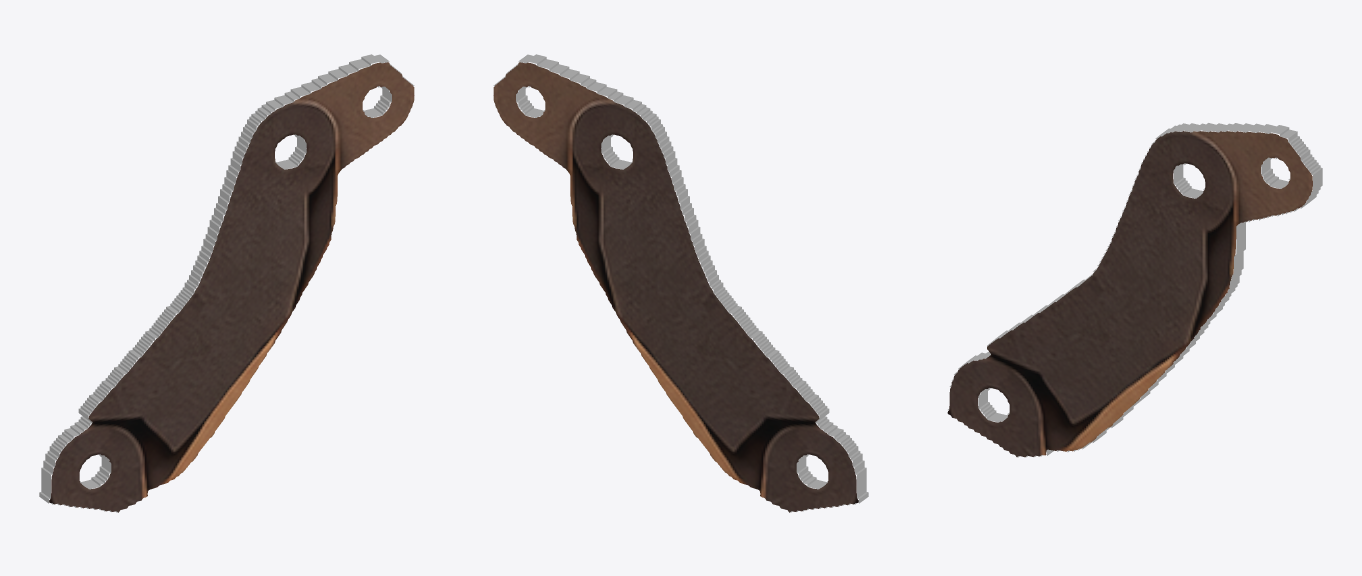
Rendered from Variant01Upper.glb.
3 views of the same model, side by side, from view 1: azimuth 30°, elevation 25°; view 2: azimuth 150°, elevation 25°; view 3: azimuth 330°, elevation 25° (orthographic).
Parts seen in each view (by area): view 1: PaperVolume; view 2: PaperVolume; view 3: PaperVolume.
Part boxes in pixels (x1,y1,x2,y2): PaperVolume: (39,54,414,512); PaperVolume: (493,54,868,512); PaperVolume: (947,123,1322,457).
Size of the model in its own units: 2 by 2.02 by 0.08.
Materials: 3 (2 with a texture image).
